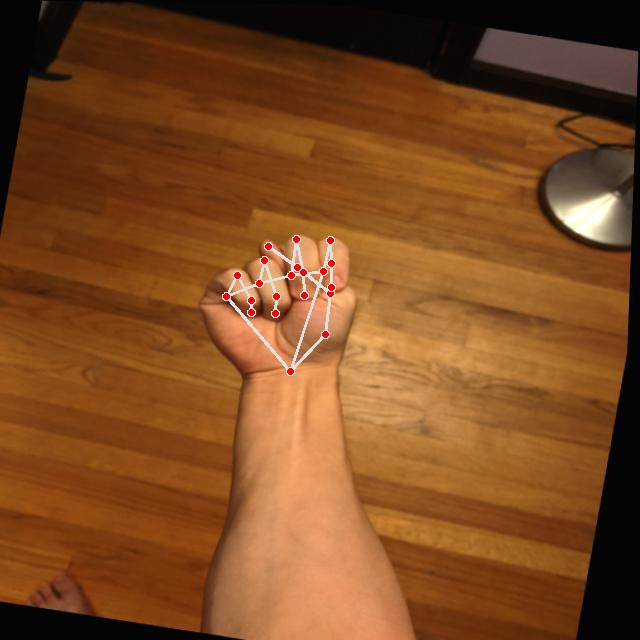N: (180, 213, 380, 396)
